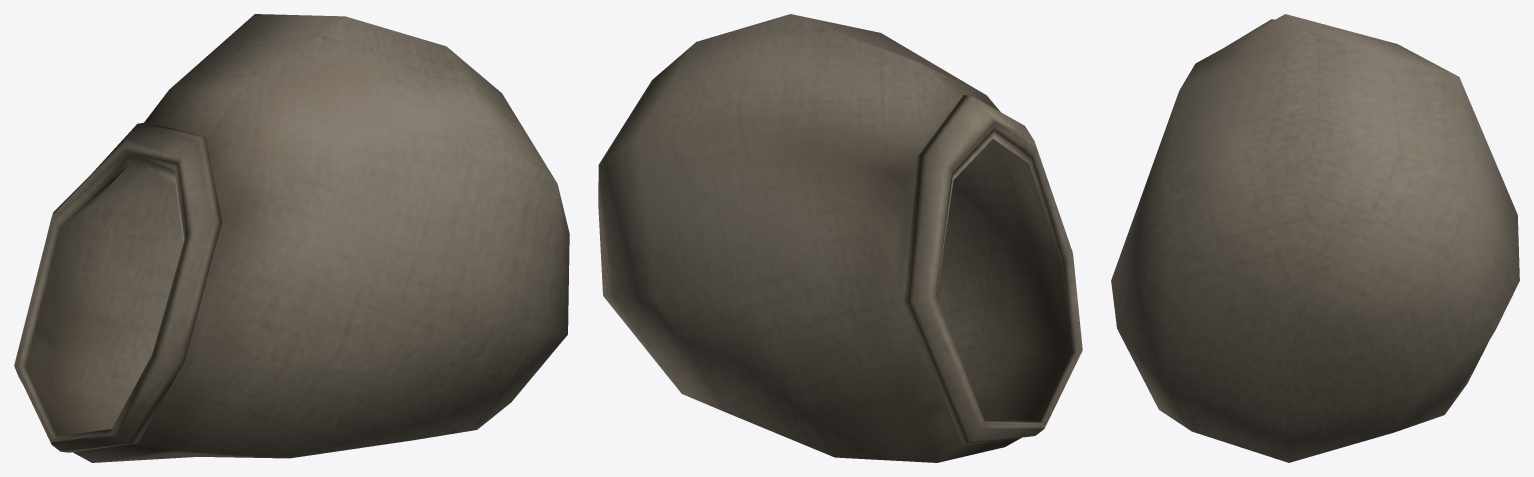
Rendered from sack_009.fbx.
3 renders of one model, left to right at view 1: azimuth 30°, elevation 25°; view 2: azimuth 150°, elevation 25°; view 3: azimuth 270°, elevation 25°, orthographic. The views are drawn at different scales.
Parts seen in each view (by area): view 1: sack_009; view 2: sack_009; view 3: sack_009.
Part boxes in pixels (x1=…): sack_009: x1=14, y1=14, x2=569, y2=462; sack_009: x1=598, y1=14, x2=1082, y2=462; sack_009: x1=1111, y1=14, x2=1519, y2=462.
Size of the model in its own units: 18.33 by 15.33 by 14.48.
